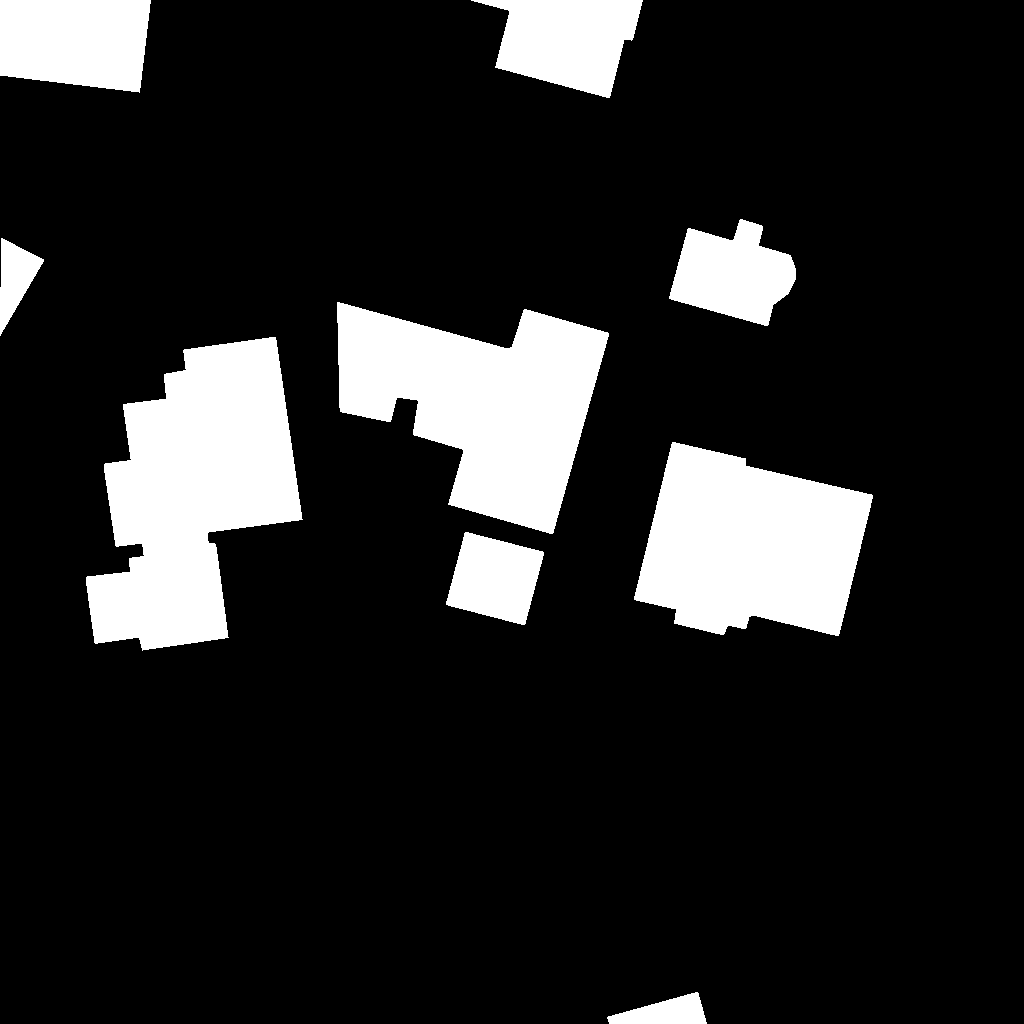building: (86, 337, 303, 651), (337, 302, 610, 535), (634, 442, 874, 637), (469, 0, 644, 99), (0, 0, 152, 93), (669, 219, 796, 327), (446, 532, 545, 626), (0, 238, 45, 337), (607, 992, 708, 1024)
